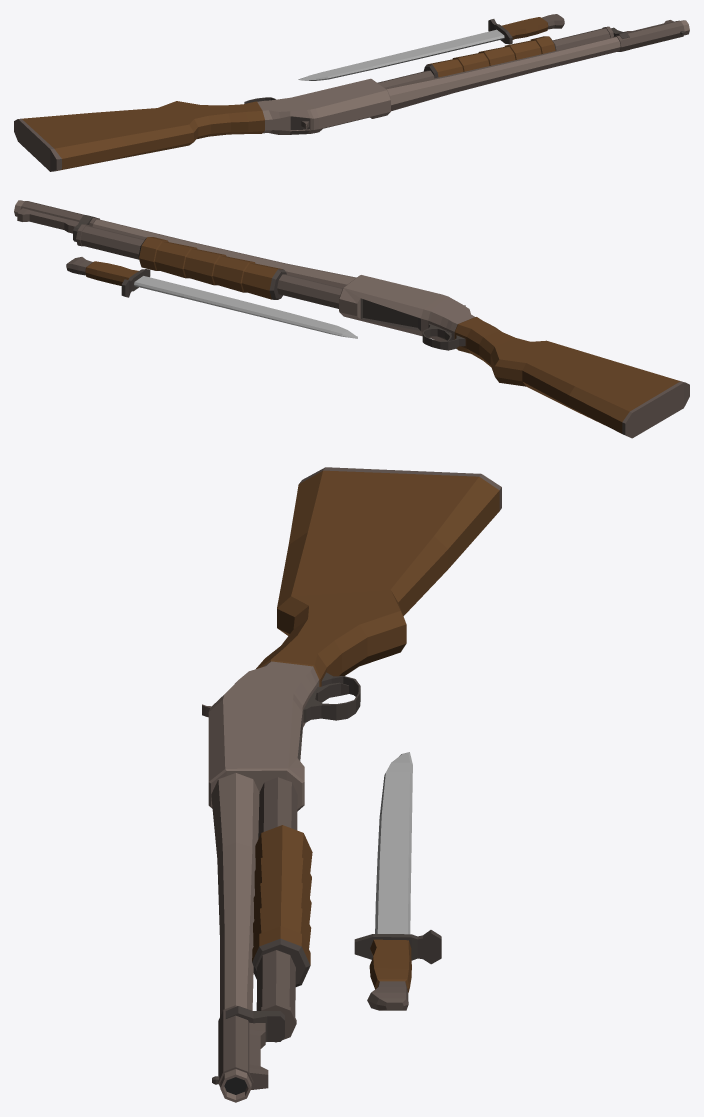
File: TrenchShotgun_3D.glb
The picture shows the model from 3 angles, top to bottom: view 1: azimuth 30°, elevation 25°; view 2: azimuth 150°, elevation 25°; view 3: azimuth 270°, elevation 25°; orthographic projection. The views are drawn at different scales.
Visible parts, largest first — view 1: TrenchShotgun (1); view 2: TrenchShotgun (1); view 3: TrenchShotgun (1).
Boxes of the visible parts, x1,y1,x2,y2 form: TrenchShotgun (1): (14,14,689,171); TrenchShotgun (1): (14,200,689,438); TrenchShotgun (1): (202,467,501,1102).
Size of the model in its own units: 1.13 by 0.0479 by 0.2387.
1 material, 1 textured.
